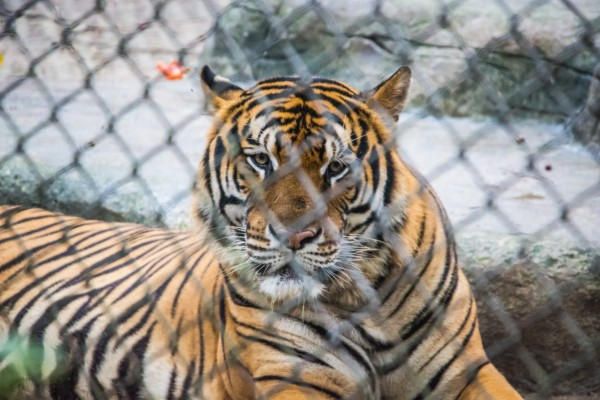Tigrew: (127, 43, 499, 380)
